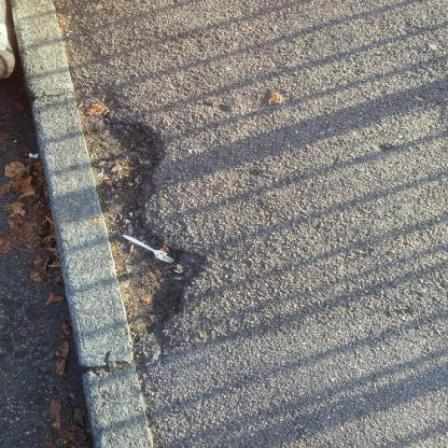Other litter: (124, 236, 176, 264)
Unlabeled litter: (30, 154, 41, 160)
